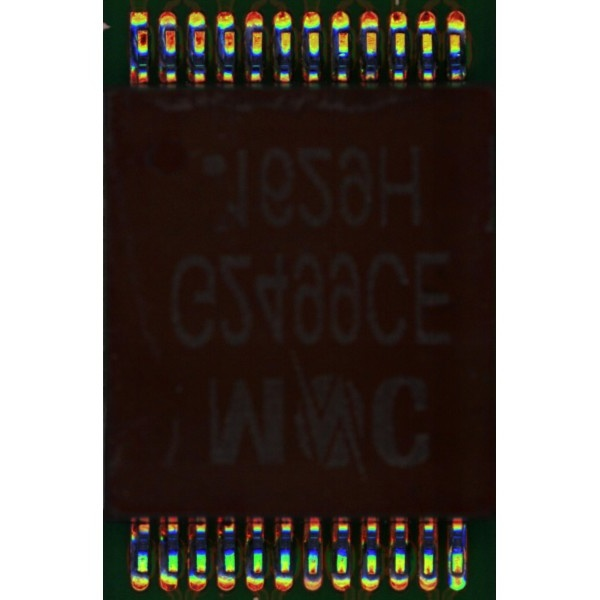Bad_podu: (454, 568, 462, 584)
Bad_qiaojiao: (447, 546, 452, 573), (462, 548, 467, 574)
